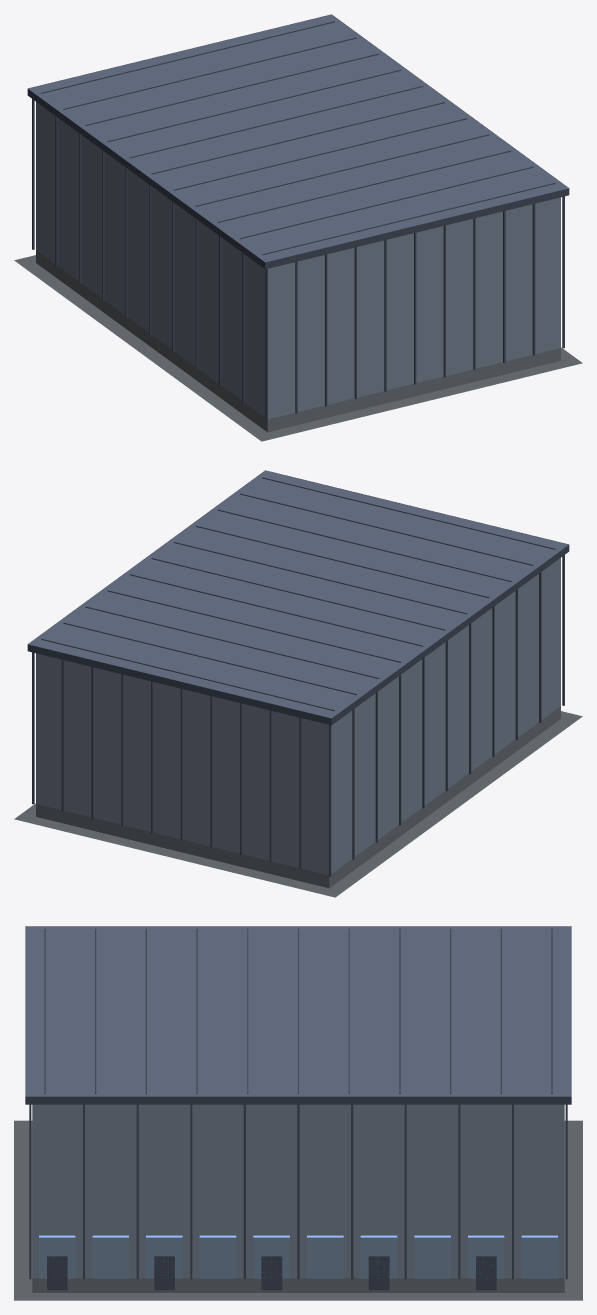
Rendered from shell.glb.
The picture shows the model from 3 angles, top to bottom: view 1: azimuth 30°, elevation 25°; view 2: azimuth 150°, elevation 25°; view 3: azimuth 270°, elevation 25°; orthographic projection. The views are drawn at different scales.
Parts seen in each view (by area): view 1: shell_bowl_mass_cladding, shell_roof_canopy, shell_roof_canopy_fascia, shell_bowl_mass_facade_panels, shell_bowl_mass_plinth, shell_field_floor_apron; view 2: shell_bowl_mass_cladding, shell_roof_canopy, shell_roof_canopy_fascia, shell_bowl_mass_facade_panels, shell_bowl_mass_plinth, shell_field_floor_apron; view 3: shell_roof_canopy, shell_bowl_mass_cladding, shell_bowl_mass_suite_glass_lobby, shell_field_floor_apron, shell_roof_canopy_fascia, shell_bowl_mass_plinth, shell_bowl_mass_facade_panels, shell_bowl_mass_portal_frames, shell_ribbon_led_entry_static.
Part boxes in pixels (<box>): shell_bowl_mass_cladding: <box>36,102,560,419</box>; shell_roof_canopy: <box>28,14,568,262</box>; shell_roof_canopy_fascia: <box>27,14,569,269</box>; shell_bowl_mass_facade_panels: <box>32,99,564,420</box>; shell_bowl_mass_plinth: <box>36,250,560,432</box>; shell_field_floor_apron: <box>14,255,582,441</box>; shell_bowl_mass_cladding: <box>36,558,560,875</box>; shell_roof_canopy: <box>28,470,568,718</box>; shell_roof_canopy_fascia: <box>27,470,569,725</box>; shell_bowl_mass_facade_panels: <box>32,555,564,876</box>; shell_bowl_mass_plinth: <box>36,706,560,888</box>; shell_field_floor_apron: <box>14,711,582,897</box>; shell_roof_canopy: <box>25,926,571,1096</box>; shell_bowl_mass_cladding: <box>32,1104,564,1278</box>; shell_bowl_mass_suite_glass_lobby: <box>39,1237,557,1278</box>; shell_field_floor_apron: <box>14,1120,582,1300</box>; shell_roof_canopy_fascia: <box>25,926,571,1104</box>; shell_bowl_mass_plinth: <box>32,1278,564,1292</box>; shell_bowl_mass_facade_panels: <box>29,1104,567,1279</box>; shell_bowl_mass_portal_frames: <box>47,1256,496,1290</box>; shell_ribbon_led_entry_static: <box>39,1235,557,1237</box>.
Size of the model in its own units: 30.87 by 15.99 by 41.21.
